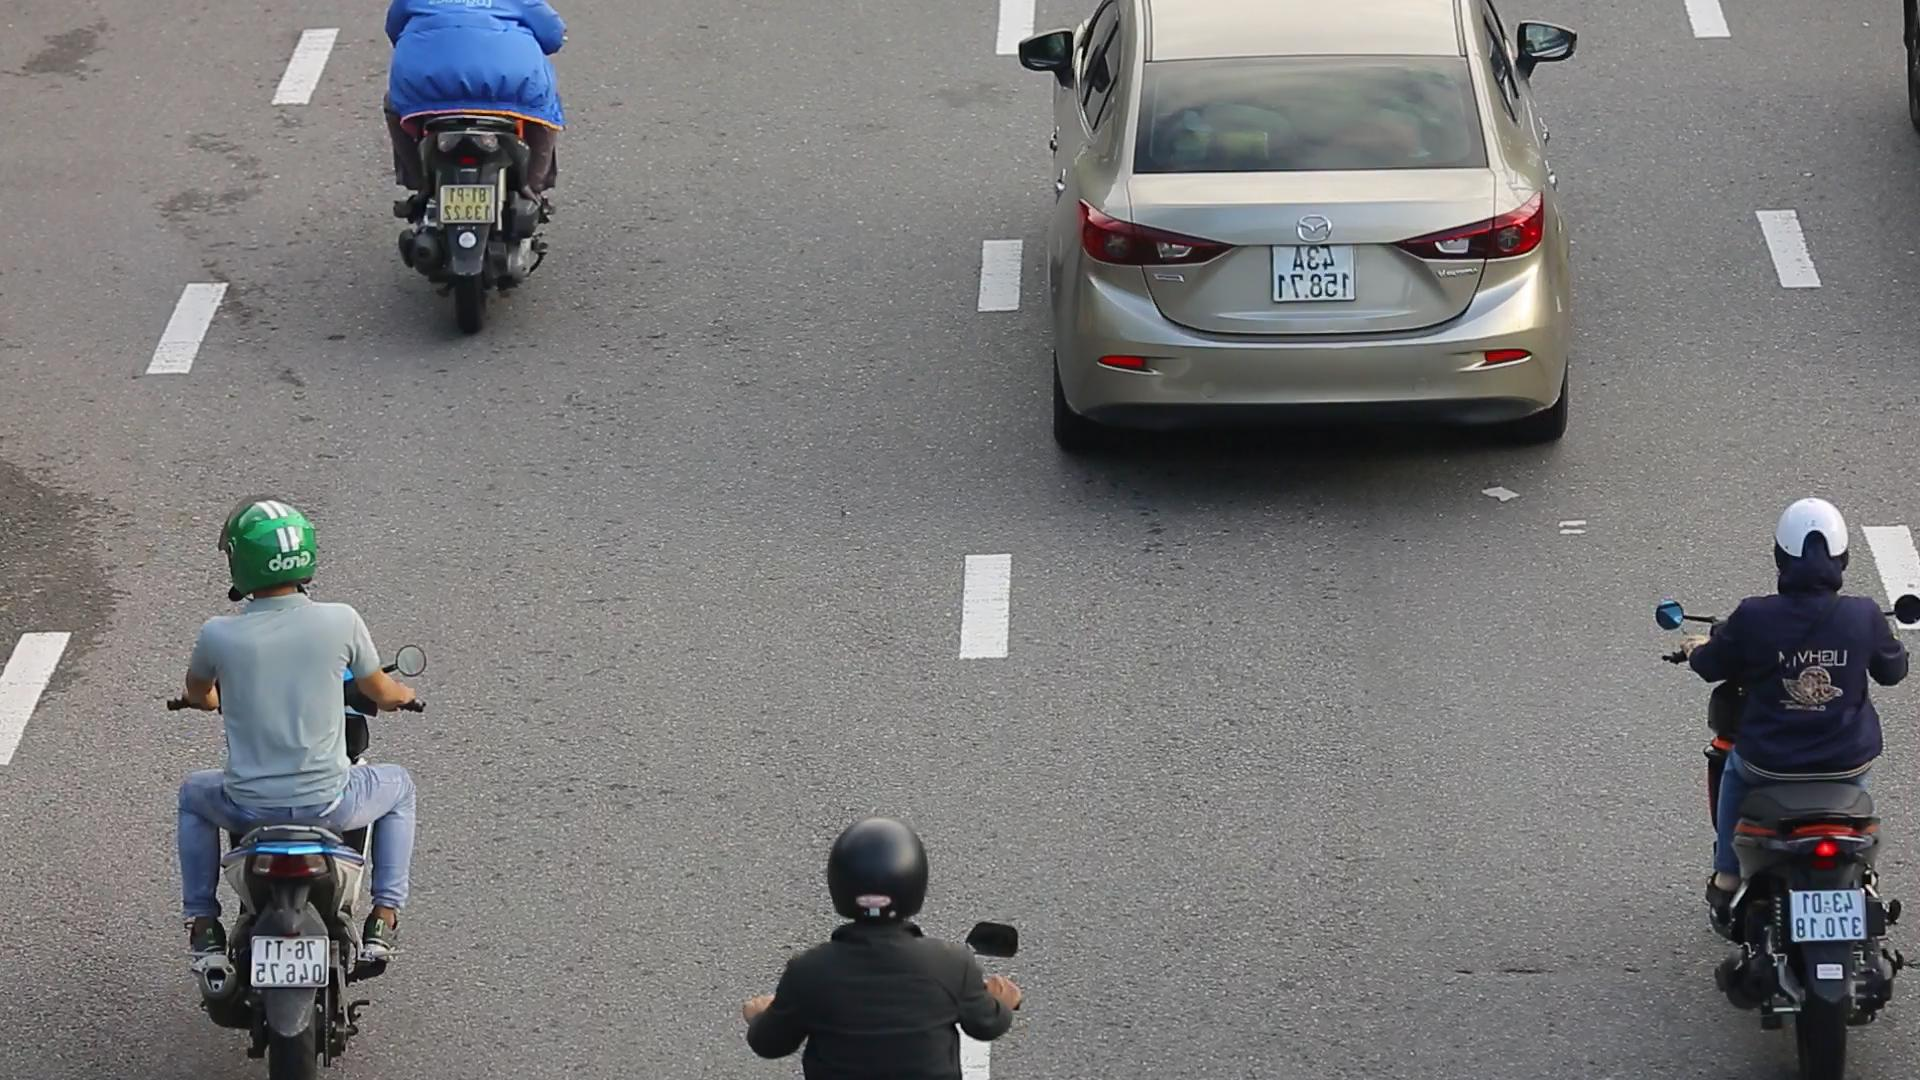motobike: (166, 495, 442, 1079), (1654, 502, 1920, 1079)
